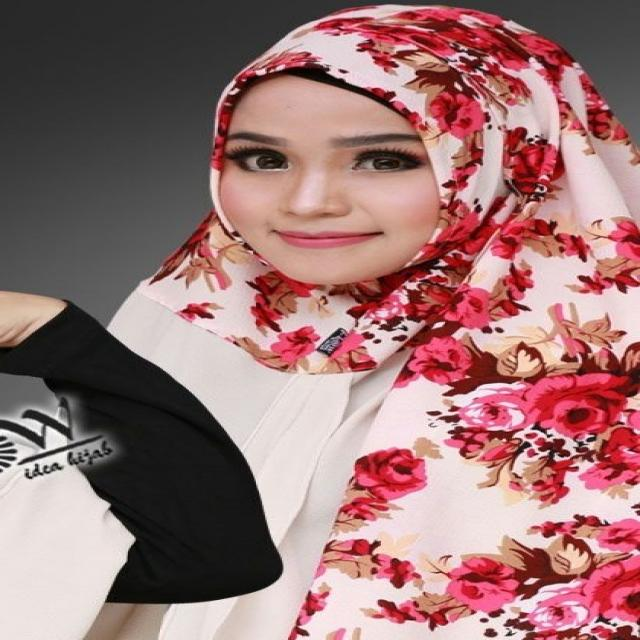head: (194, 7, 617, 300)
